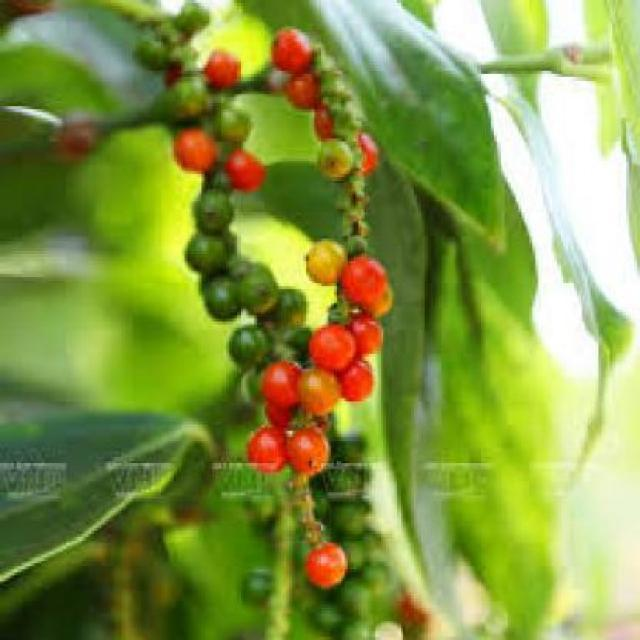RIPE: (279, 233, 362, 552)
